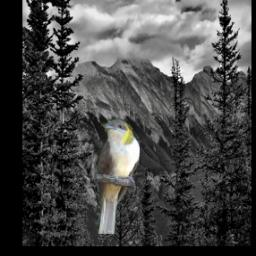Cuckoo: (95, 118, 141, 234)
